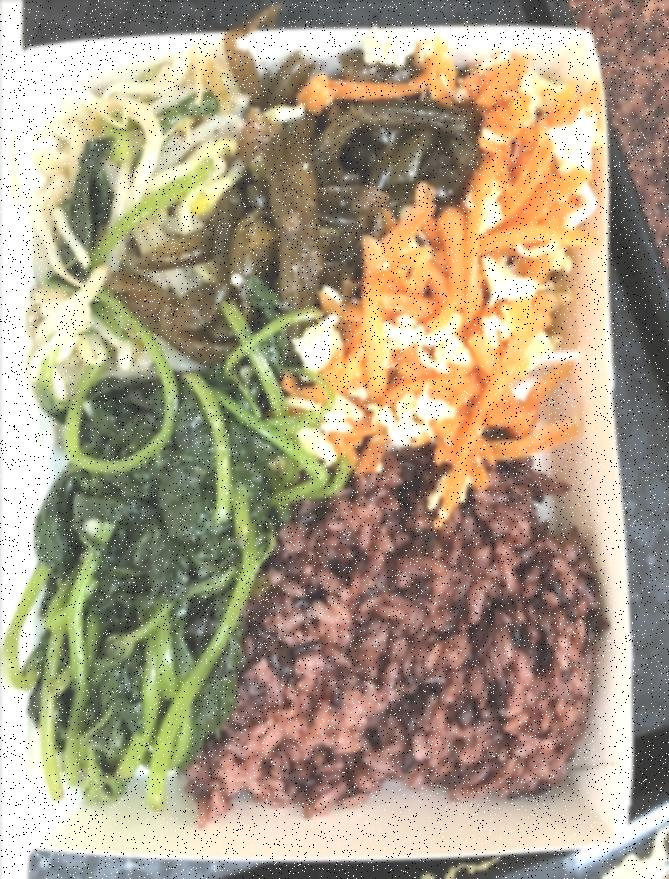box: (8, 14, 642, 866)
purple rice: (205, 437, 604, 814)
side dish: (302, 58, 610, 472), (28, 371, 278, 822), (158, 74, 458, 360), (26, 54, 230, 390)
